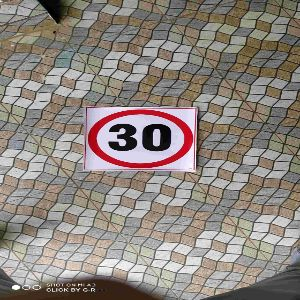speedlimit30: (85, 106, 198, 174)
